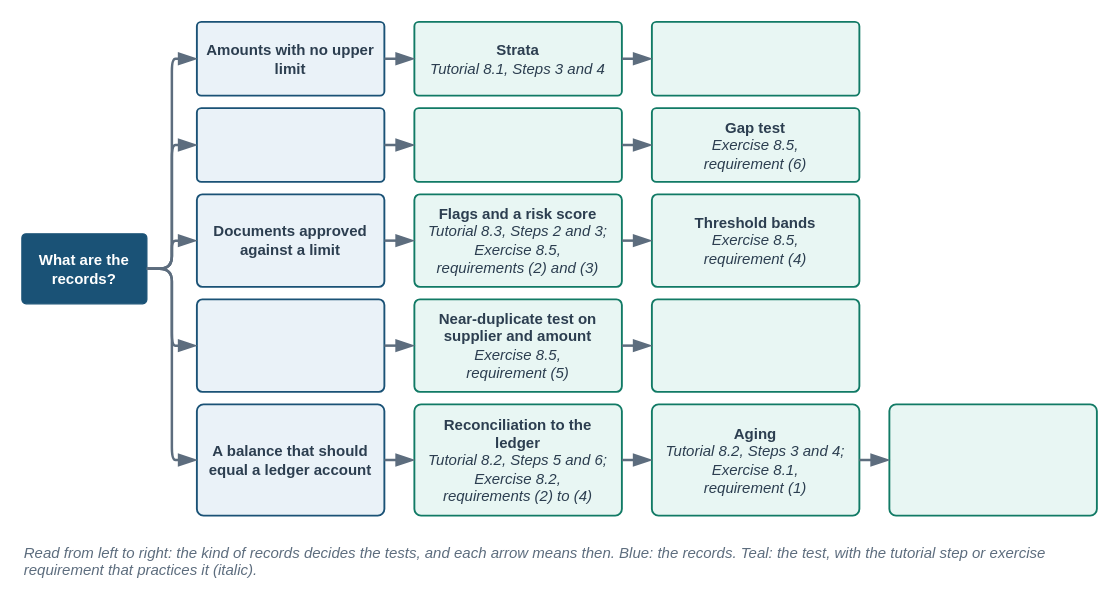
The diagram is 1120 pixels wide and 608 high, and some of its shapes have lost their labels. The shapes that lost their labels are listed below. From the top down, each one's centre as x and y in pixels, then its label:
(755,58): First-digit test of the subsets Tutorial 8.1, Steps 5 to 8
(290,144): Documents numbered in a series
(517,144): Uniqueness check Exercise 8.5, requirement (6)
(290,345): Pairs of records that could repeat
(755,345): The same invoice? Exercise 8.5, requirement (5)
(992,459): Confirmation sample Tutorial 8.2, Step 7
